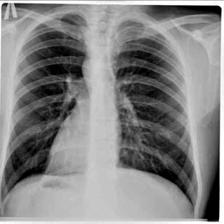tuberculosis: (1, 7, 203, 217)
